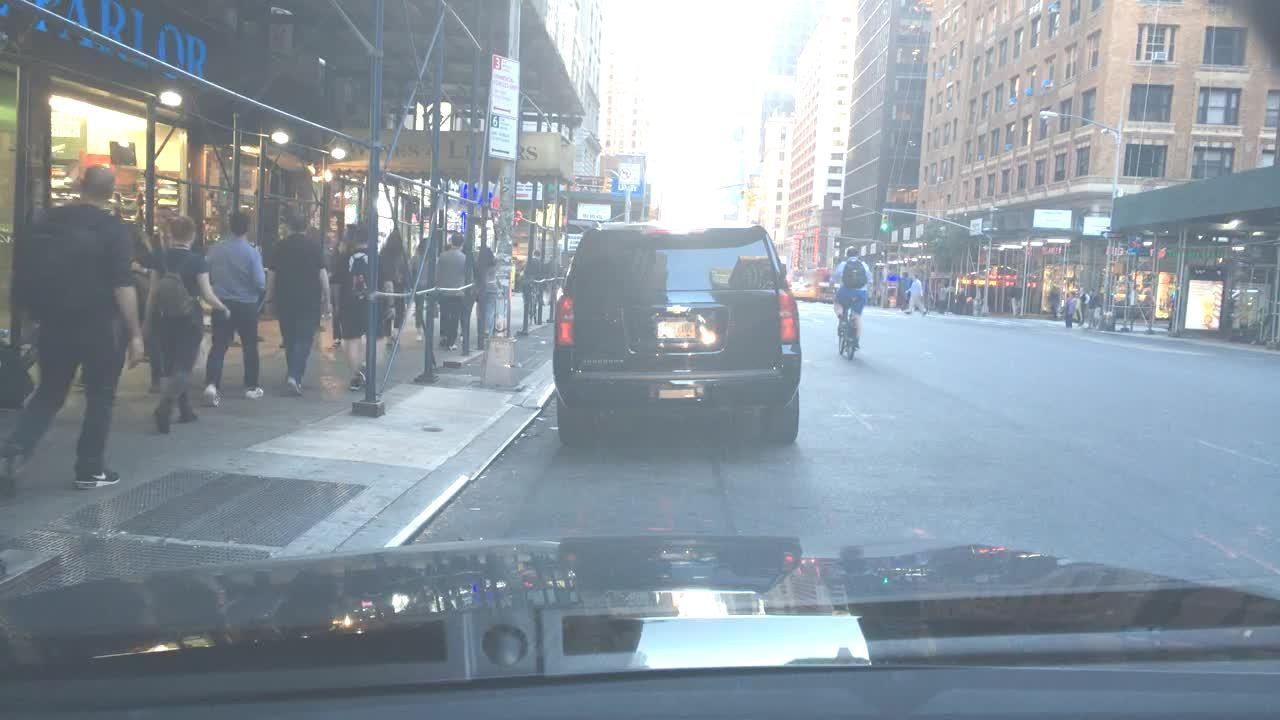chevrolet: (660, 296, 696, 322)
